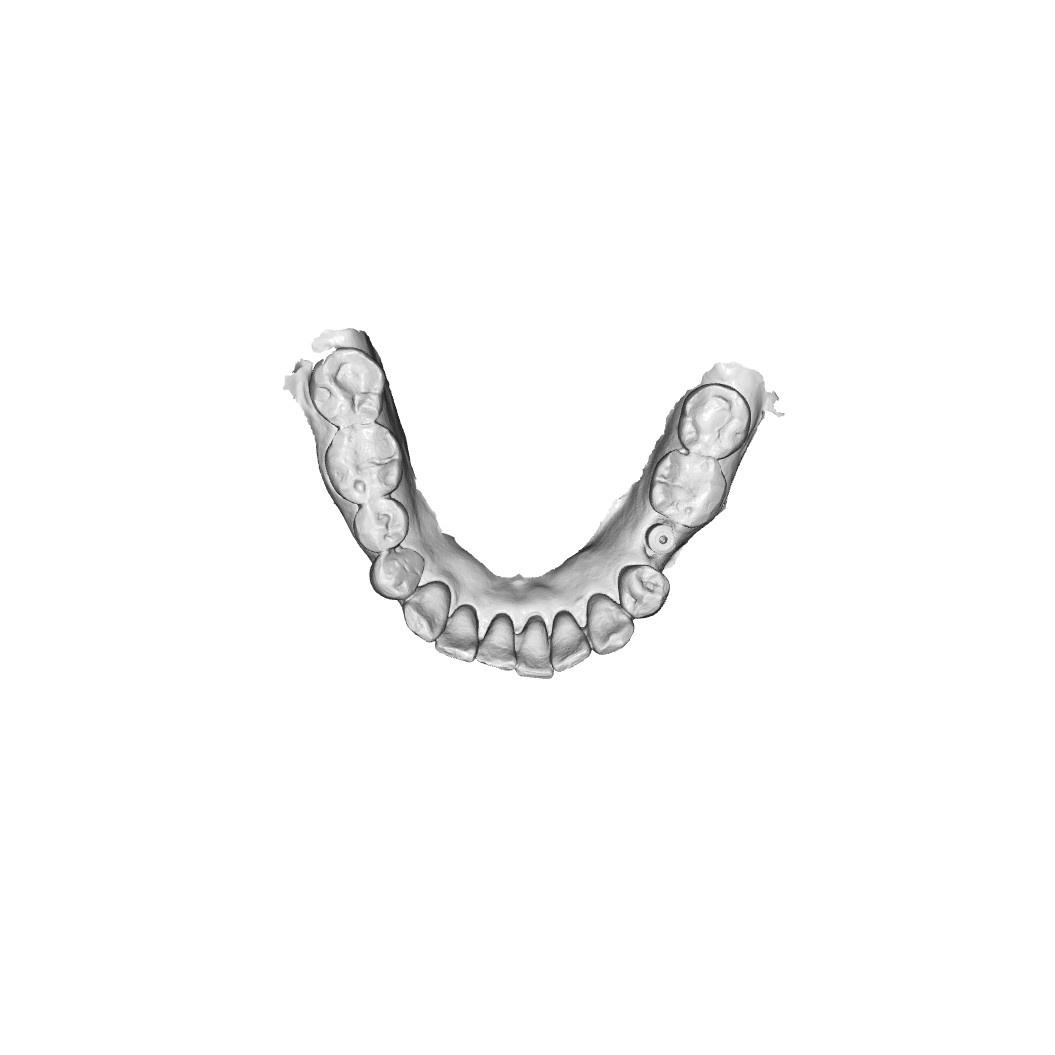canine: (585, 593, 636, 655), (403, 579, 453, 642)
implant: (646, 519, 683, 555)
incisor: (514, 620, 558, 687), (552, 610, 596, 672), (476, 611, 520, 668), (434, 604, 477, 659)
molar: (307, 349, 391, 427), (327, 424, 407, 501), (649, 454, 728, 521), (680, 384, 751, 457)
premolar: (351, 496, 407, 550), (370, 546, 425, 597), (620, 561, 666, 615)
